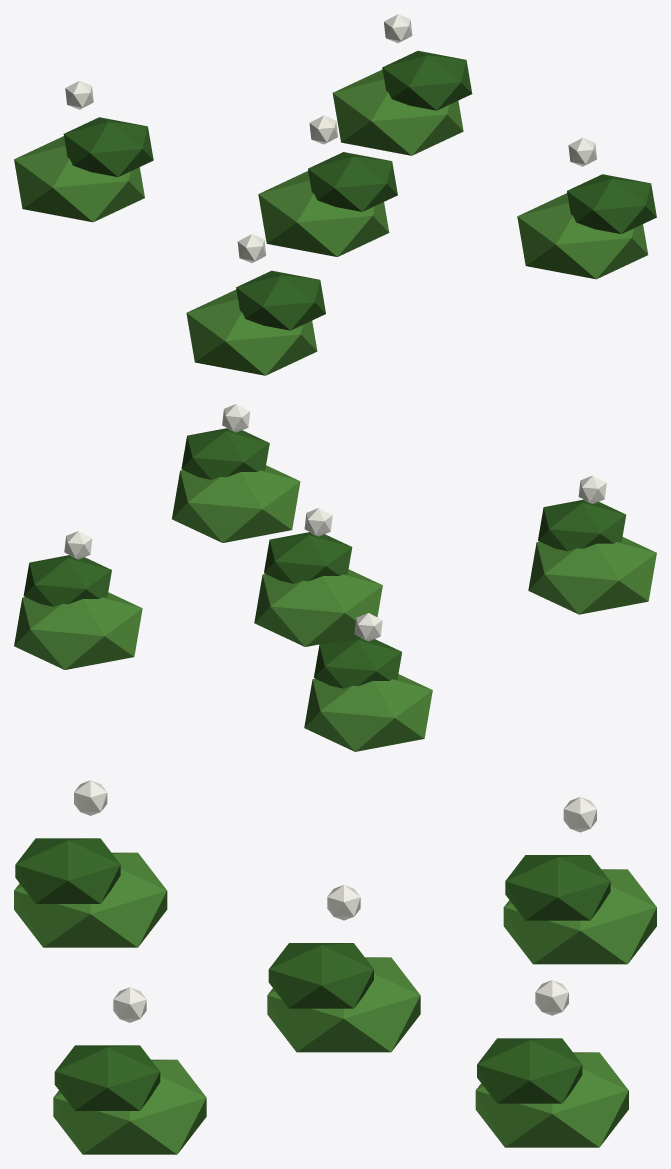
File: crop_potato_mature.glb
3 renders of one model, top to bottom at view 1: azimuth 30°, elevation 25°; view 2: azimuth 150°, elevation 25°; view 3: azimuth 270°, elevation 25°, orthographic. The views are drawn at different scales.
Parts seen in each view (by area): view 1: crop_potato_mature; view 2: crop_potato_mature; view 3: crop_potato_mature.
Boxes of the visible parts, x1,y1,x2,y2 form: crop_potato_mature: (14, 14, 656, 375); crop_potato_mature: (14, 404, 656, 751); crop_potato_mature: (14, 780, 656, 1154).
Size of the model in its own units: 1.16 by 0.323 by 1.14.
